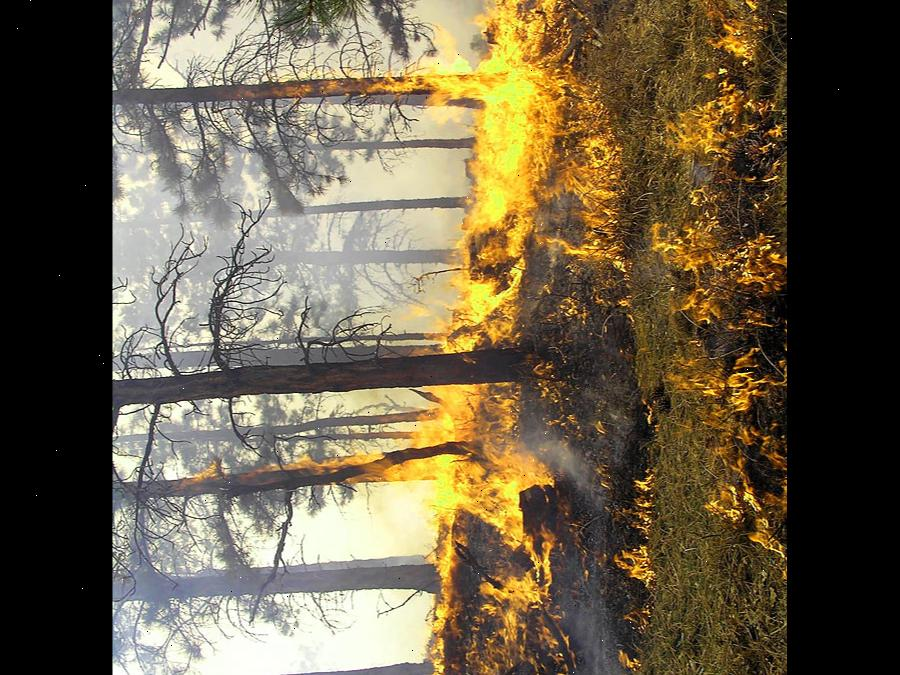fire: (328, 0, 787, 675)
